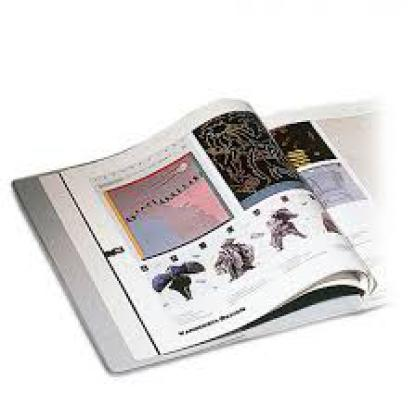paper: (7, 96, 377, 375), (9, 98, 379, 372), (260, 98, 390, 311)
